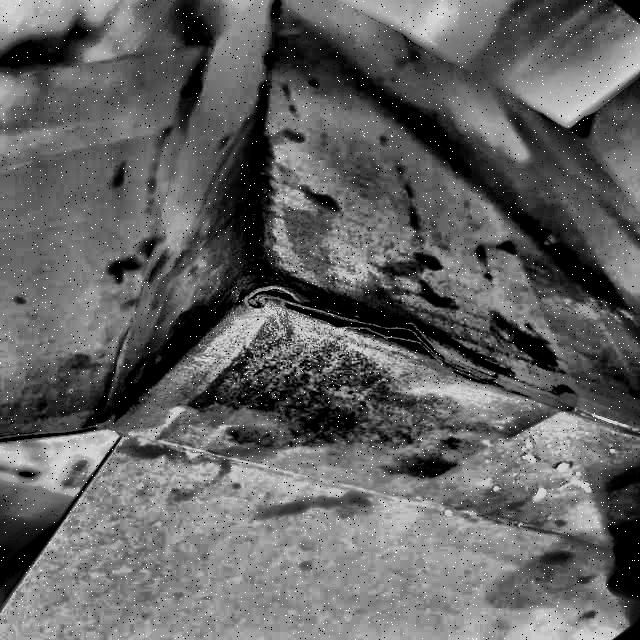box: (1, 1, 640, 640)
wet: (137, 134, 496, 475)
